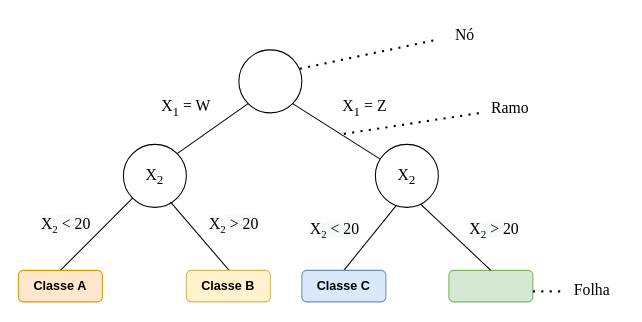
The diagram is 642 pixels wide and 322 high, and some of its shapes have lost their labels. Here are the shapes that lost their labels. From the top down, the centre of each, then its label:
At point (270, 81): "X 1".
At point (490, 285): "Classe D".
